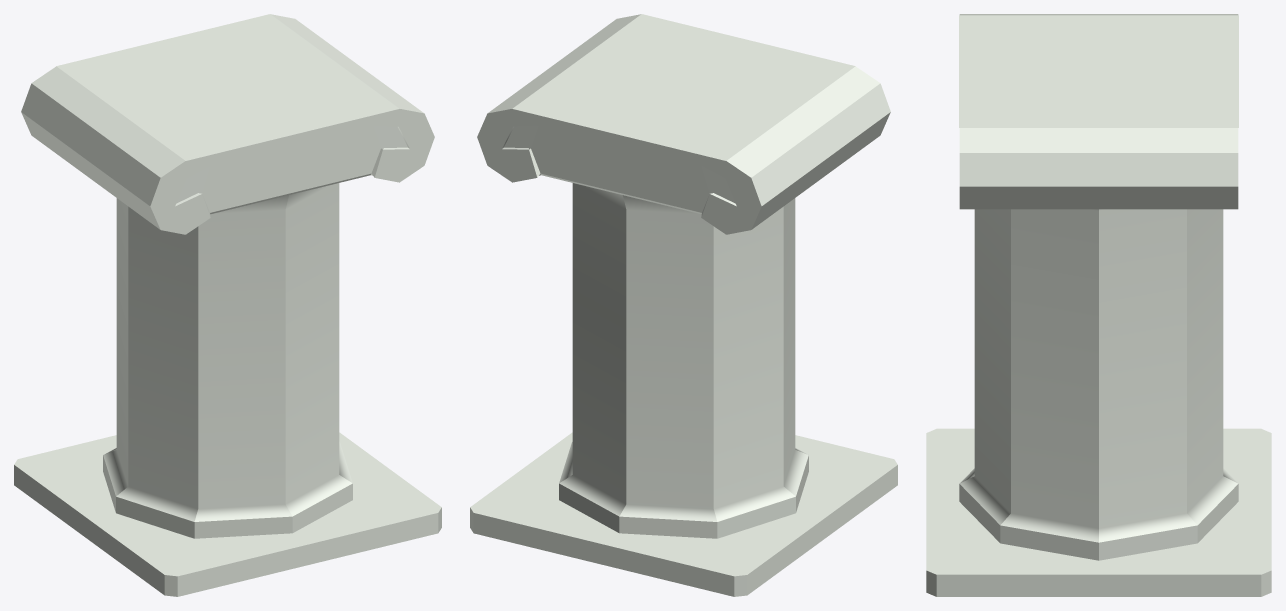
Rendered from plinth_tall.fbx.
3 views of the same model, side by side, from view 1: azimuth 30°, elevation 25°; view 2: azimuth 150°, elevation 25°; view 3: azimuth 270°, elevation 25° (orthographic). The views are drawn at different scales.
Visible parts, largest first — view 1: pCylinder6; view 2: pCylinder6; view 3: pCylinder6.
Part boxes in pixels (box(x1,y1,x2,y2)): pCylinder6: box(14, 14, 441, 596); pCylinder6: box(470, 14, 897, 596); pCylinder6: box(926, 14, 1271, 596).
Bounding box in the file's own units: 8.06 × 11.34 × 7.85.
Materials: 1 (1 with a texture image).
